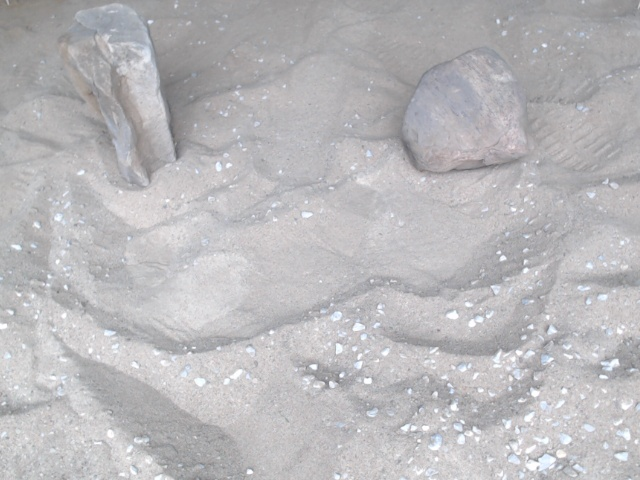rock: (51, 1, 184, 191), (396, 42, 534, 178)
